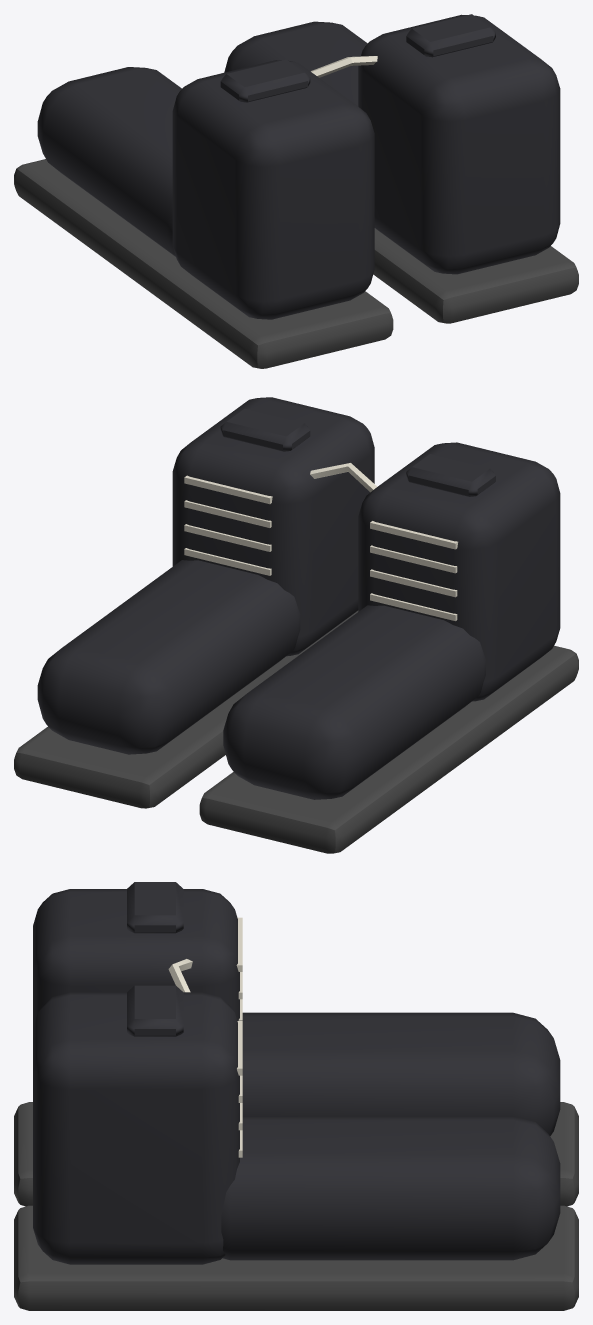
File: work_boots.glb
3 renders of one model, top to bottom at view 1: azimuth 30°, elevation 25°; view 2: azimuth 150°, elevation 25°; view 3: azimuth 270°, elevation 25°, orthographic. The views are drawn at different scales.
Parts seen in each view (by area): view 1: body; view 2: body; view 3: body.
Boxes of the visible parts, x1,y1,x2,y2 form: body: [14, 14, 578, 368]; body: [14, 397, 578, 853]; body: [14, 882, 578, 1310].
Size of the model in its own units: 0.23 by 0.161 by 0.3.
